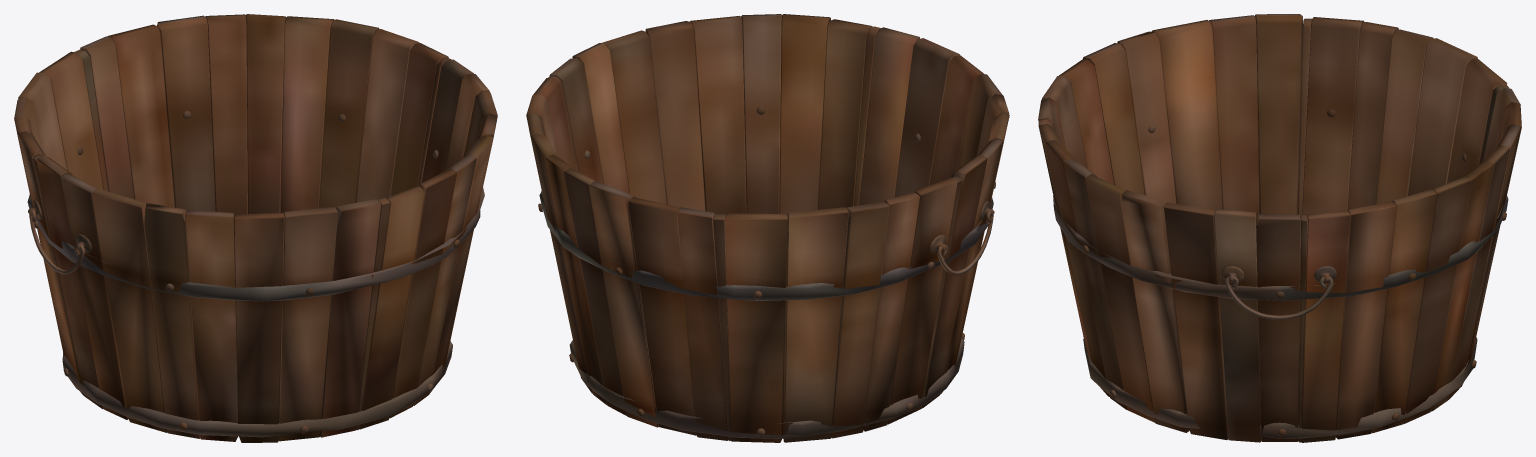
The picture shows the model from 3 angles, left to right: view 1: azimuth 30°, elevation 25°; view 2: azimuth 150°, elevation 25°; view 3: azimuth 270°, elevation 25°; orthographic projection.
Parts seen in each view (by area): view 1: wooden_bucket_02, wooden_bucket_02_handle_01; view 2: wooden_bucket_02, wooden_bucket_02_handle_01; view 3: wooden_bucket_02, wooden_bucket_02_handle_02.
Part boxes in pixels (bbox=[...]): wooden_bucket_02: bbox=[14, 14, 497, 442]; wooden_bucket_02_handle_01: bbox=[29, 210, 84, 274]; wooden_bucket_02: bbox=[526, 14, 1009, 442]; wooden_bucket_02_handle_01: bbox=[937, 211, 993, 275]; wooden_bucket_02: bbox=[1038, 14, 1521, 442]; wooden_bucket_02_handle_02: bbox=[1225, 276, 1333, 319].
Size of the model in its own units: 0.6132 by 0.3504 by 0.6152.
Materials: 1 (1 with a texture image).
